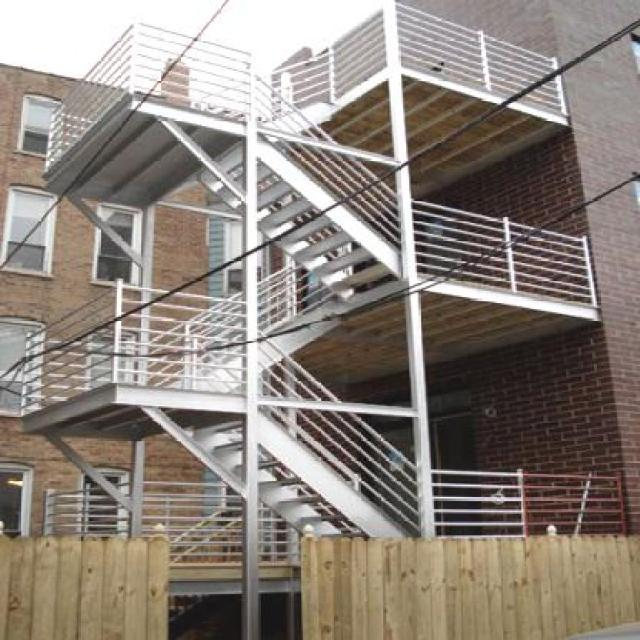stair: (84, 52, 462, 300), (183, 323, 431, 542)
